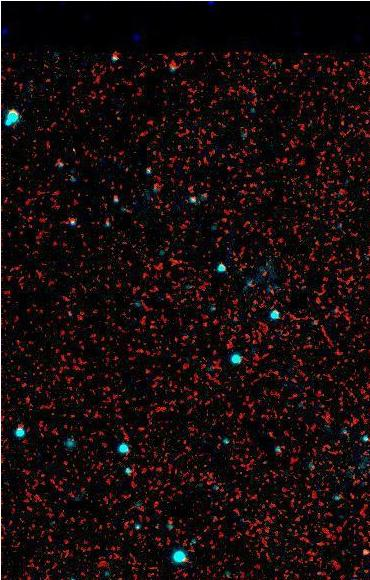star: (347, 534, 370, 564)
